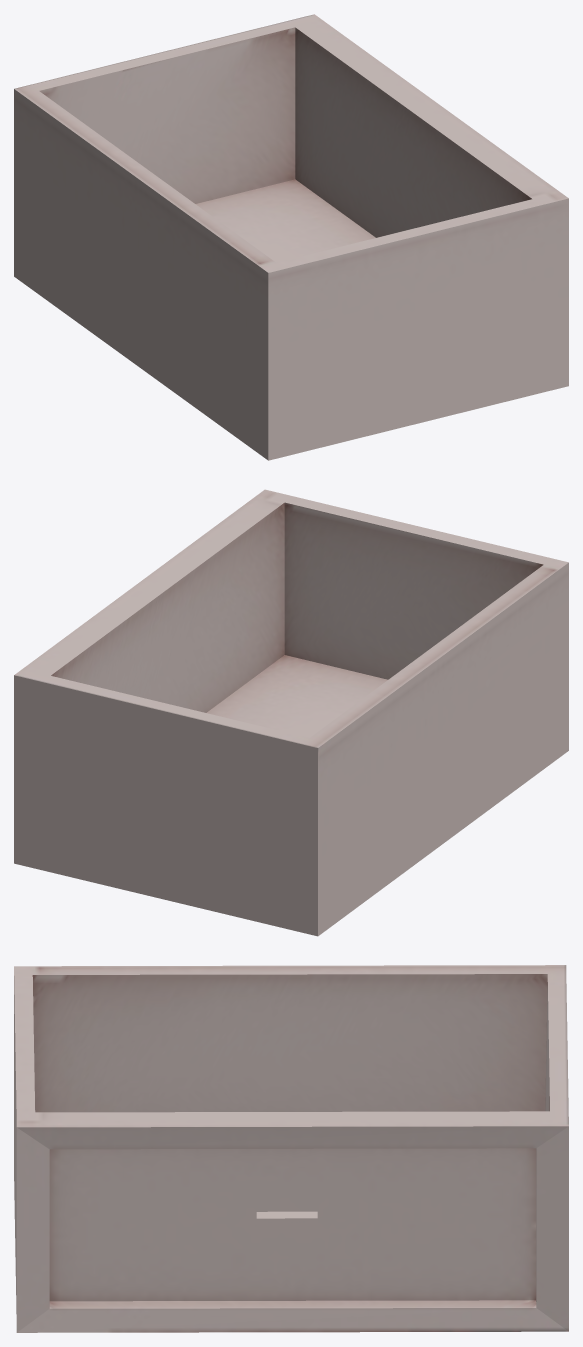
File: drawer1.glb
The picture shows the model from 3 angles, top to bottom: view 1: azimuth 30°, elevation 25°; view 2: azimuth 150°, elevation 25°; view 3: azimuth 270°, elevation 25°; orthographic projection. The views are drawn at different scales.
Parts seen in each view (by area): view 1: frl_apartment_lower_shelf_01_part_01; view 2: frl_apartment_lower_shelf_01_part_01; view 3: frl_apartment_lower_shelf_01_part_01.
Boxes of the visible parts, x1,y1,x2,y2 form: frl_apartment_lower_shelf_01_part_01: [14, 14, 568, 460]; frl_apartment_lower_shelf_01_part_01: [14, 489, 568, 936]; frl_apartment_lower_shelf_01_part_01: [14, 965, 568, 1332].
Size of the model in its own units: 0.6149 by 0.3629 by 0.8885.
1 material, 1 textured.
